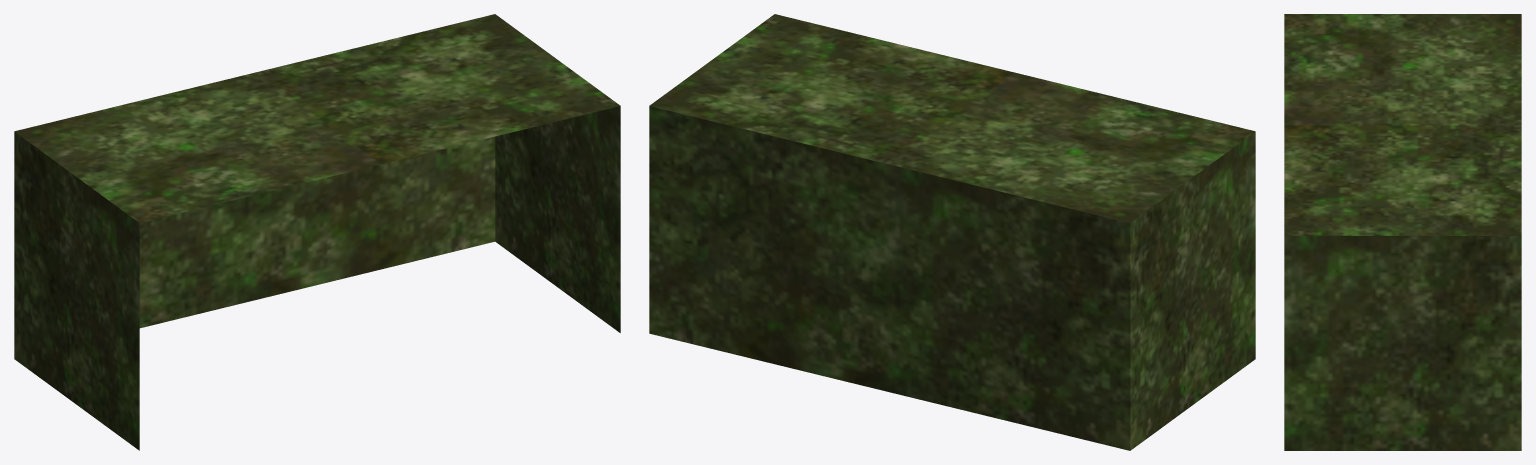
The model's file is OVERHILL_A_01_OBJECT85.fbx.
3 renders of one model, left to right at view 1: azimuth 30°, elevation 25°; view 2: azimuth 150°, elevation 25°; view 3: azimuth 270°, elevation 25°, orthographic. The views are drawn at different scales.
Visible parts, largest first — view 1: OVERHILL_A_01_OBJECT85; view 2: OVERHILL_A_01_OBJECT85; view 3: OVERHILL_A_01_OBJECT85.
Part boxes in pixels (<box>): OVERHILL_A_01_OBJECT85: <box>14,14,620,450</box>; OVERHILL_A_01_OBJECT85: <box>649,14,1255,450</box>; OVERHILL_A_01_OBJECT85: <box>1284,14,1521,450</box>.
Bounding box in the file's own units: 31223 × 14121 × 14121.
Materials: 1 (1 with a texture image).
